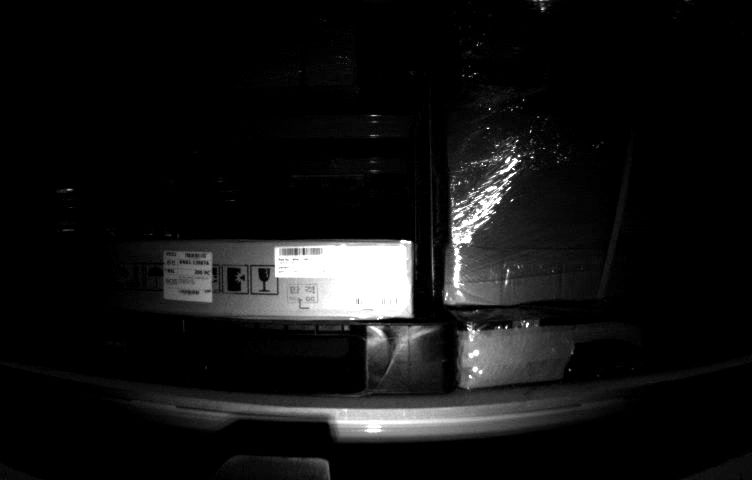True Barcode: (160, 248, 216, 303)
